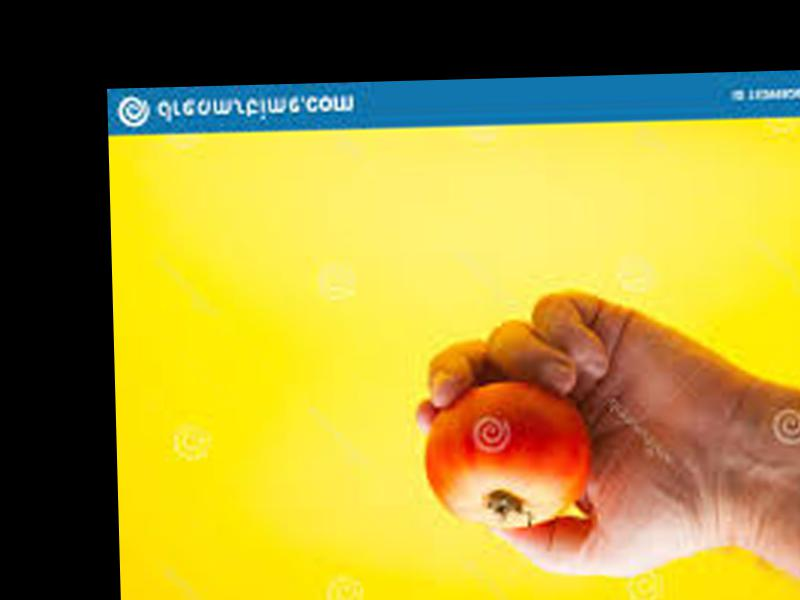Tomato: (424, 380, 592, 529)
